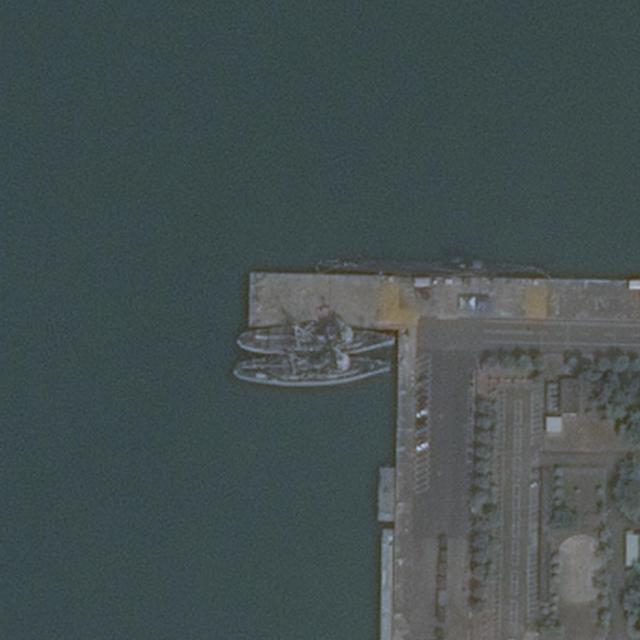Other Warship: (235, 356, 394, 387), (237, 326, 395, 356)
Submarine: (319, 253, 551, 279)
